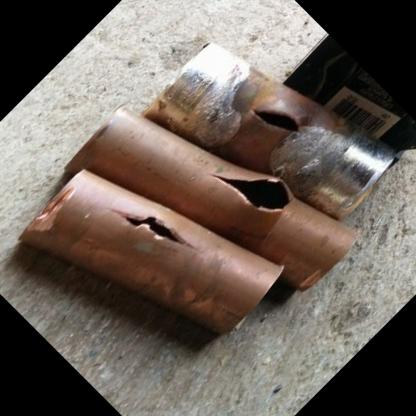burst: (110, 205, 198, 266), (211, 168, 306, 223), (244, 98, 310, 144)
